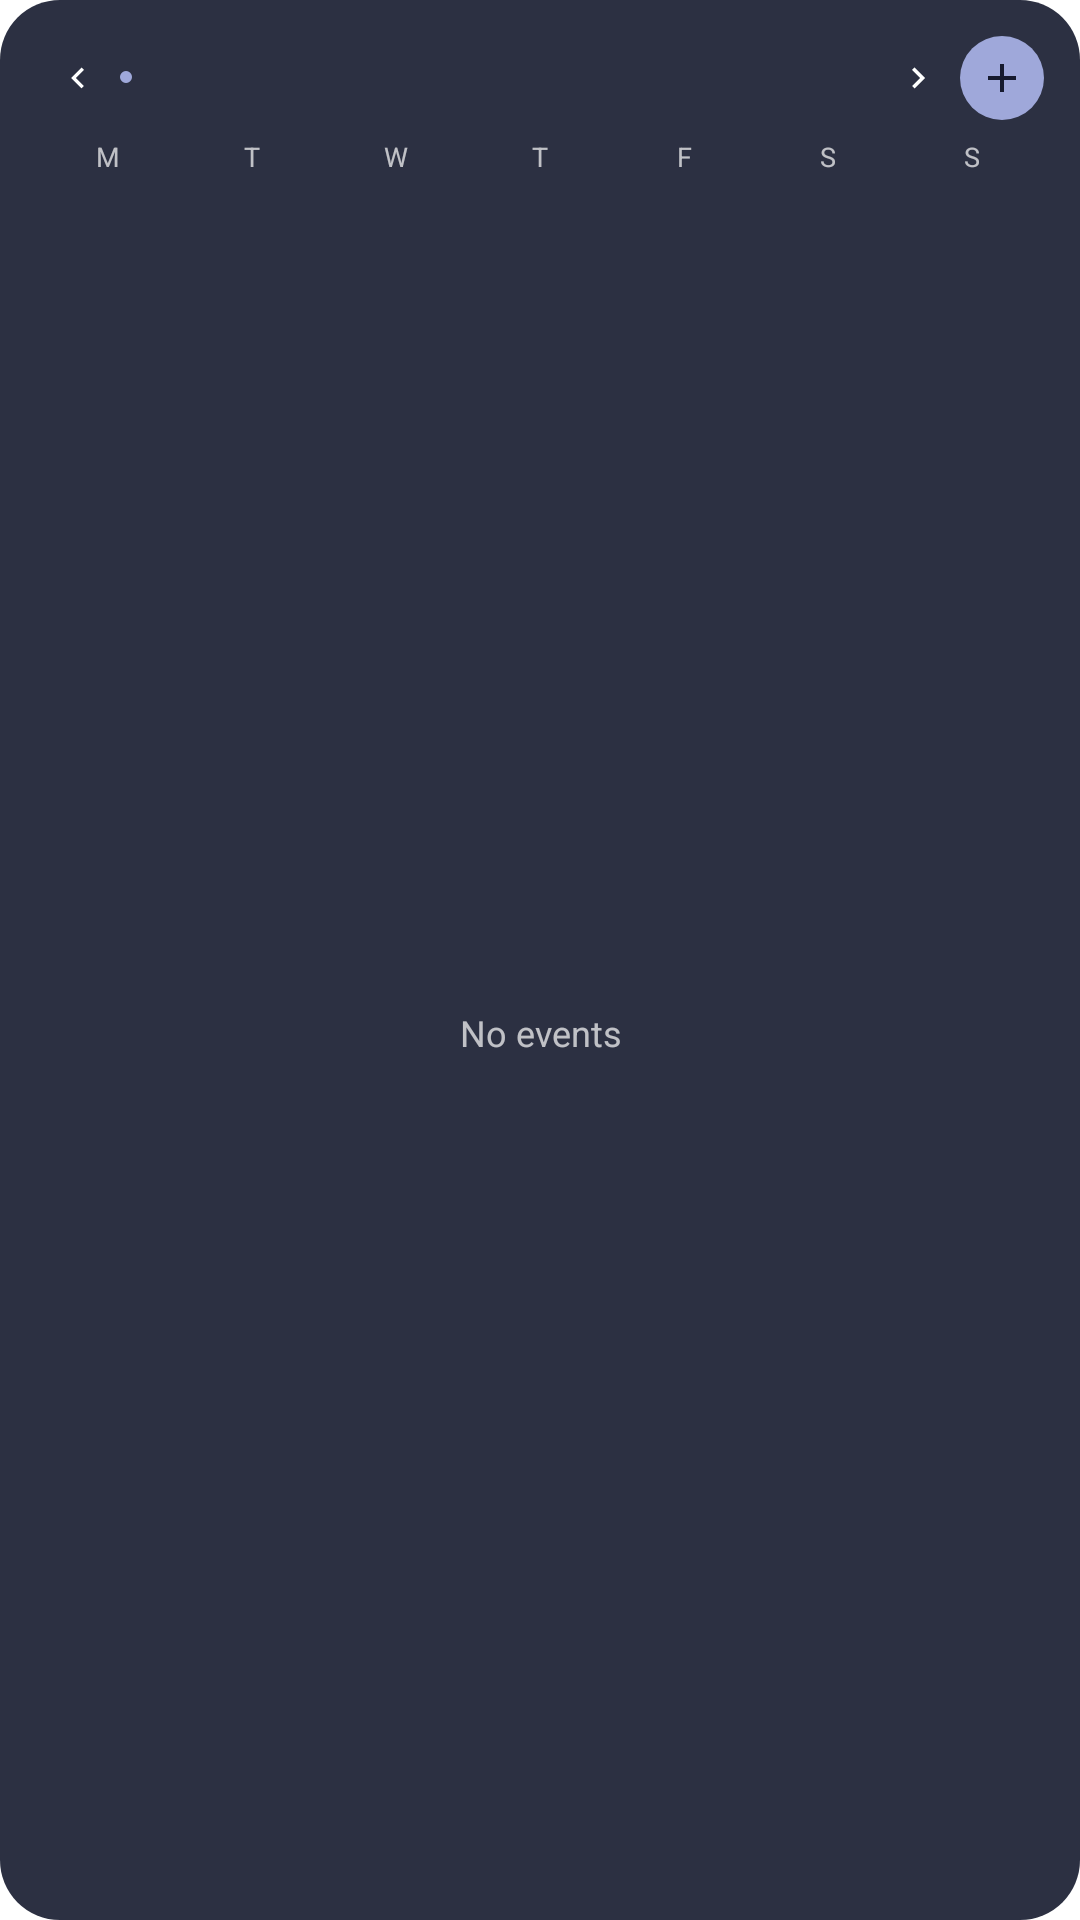

Named icons in this screenshot (1080 × 1920) and their centers, (x,y):
New event: (1002,78)
